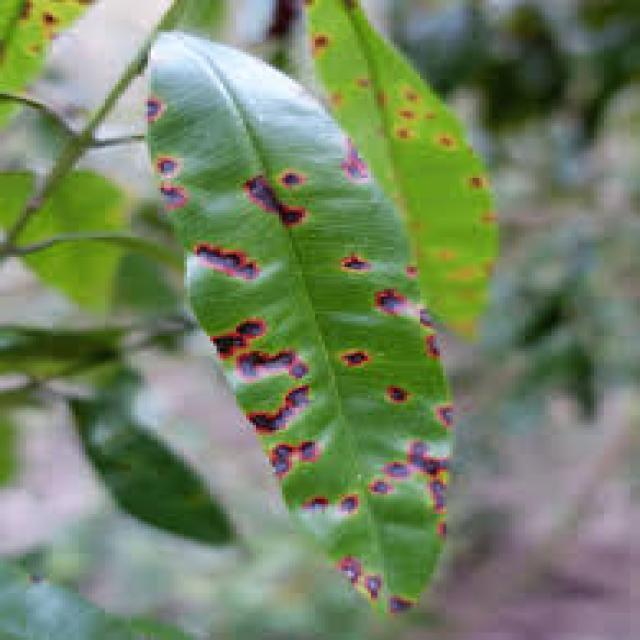leaf: (142, 27, 457, 617), (302, 0, 501, 343)
